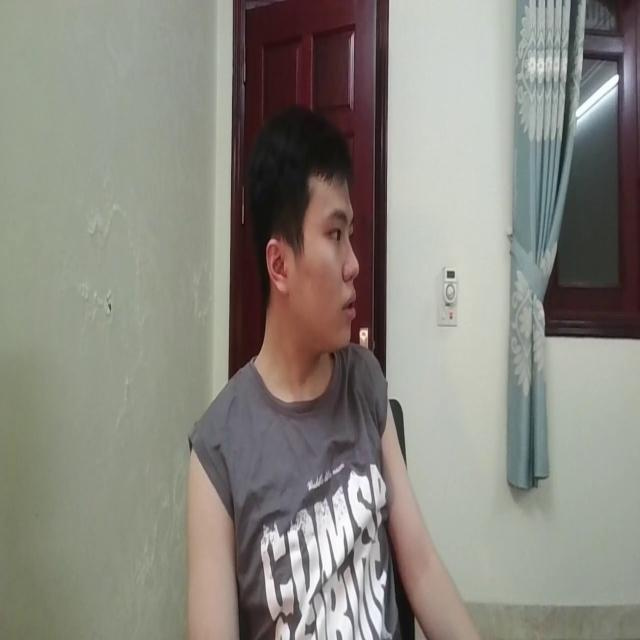student: (178, 95, 460, 640)
